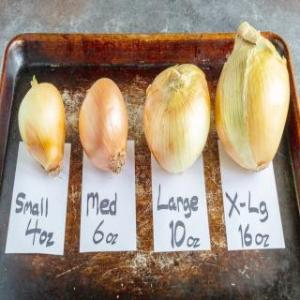onion: (214, 28, 290, 174), (142, 62, 210, 176), (77, 76, 128, 176), (17, 80, 65, 176)
